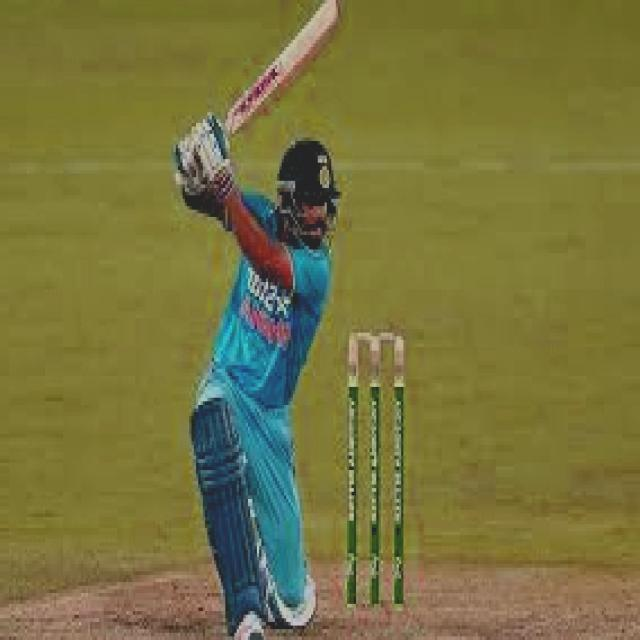bat: (215, 0, 354, 148)
toe: (328, 0, 343, 29)
